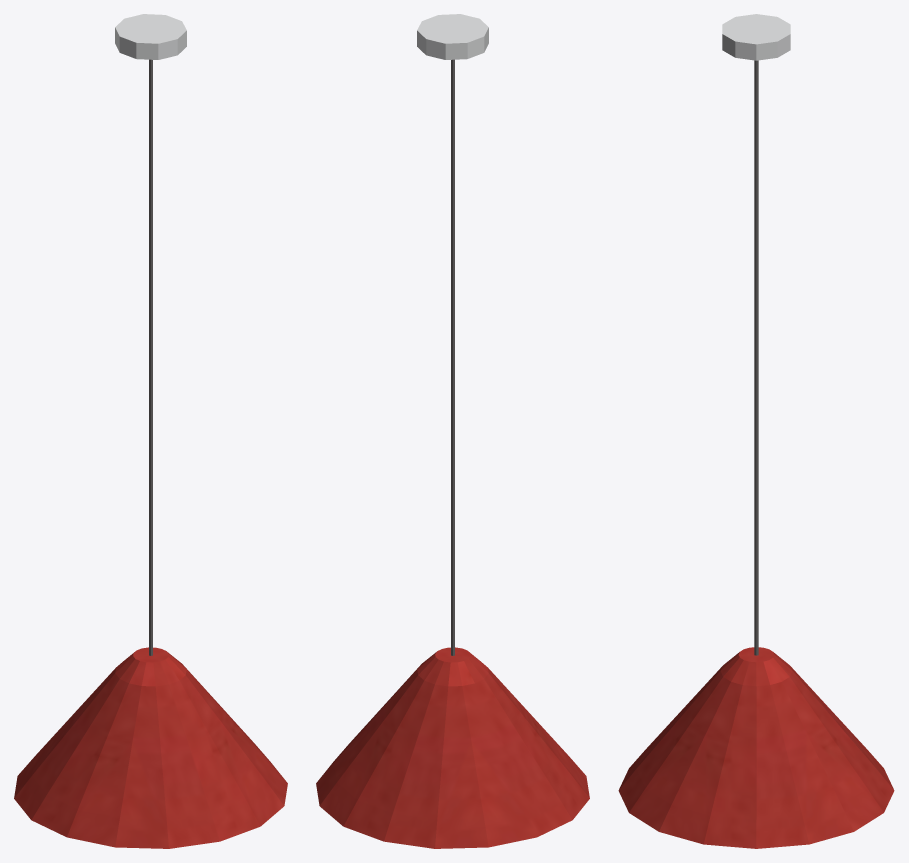
The model's file is pendant.glb.
3 renders of one model, left to right at view 1: azimuth 30°, elevation 25°; view 2: azimuth 150°, elevation 25°; view 3: azimuth 270°, elevation 25°, orthographic.
Visible parts, largest first — view 1: pendant_red, pendant_steel, pendant_dark; view 2: pendant_red, pendant_steel, pendant_dark; view 3: pendant_red, pendant_dark, pendant_steel.
Boxes of the visible parts, x1,y1,x2,y2 form: pendant_red: [14, 647, 287, 848]; pendant_steel: [115, 14, 186, 59]; pendant_dark: [149, 59, 152, 655]; pendant_red: [316, 647, 589, 848]; pendant_steel: [417, 14, 488, 59]; pendant_dark: [451, 59, 454, 655]; pendant_red: [618, 647, 894, 848]; pendant_dark: [754, 60, 758, 655]; pendant_steel: [722, 14, 790, 60].
Bounding box in the file's own units: 0.46 × 1.42 × 0.46.
4 materials, 1 textured.
